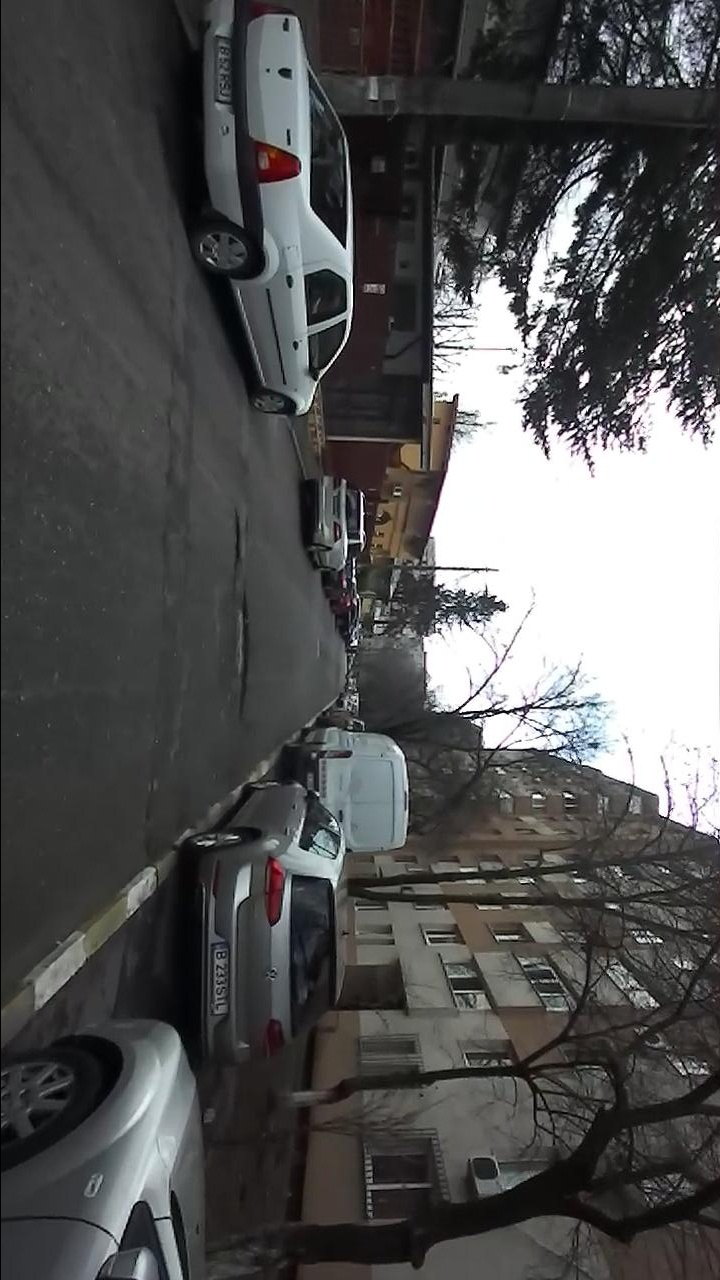pothole: (230, 589, 251, 722), (136, 776, 161, 851), (231, 506, 244, 575)
